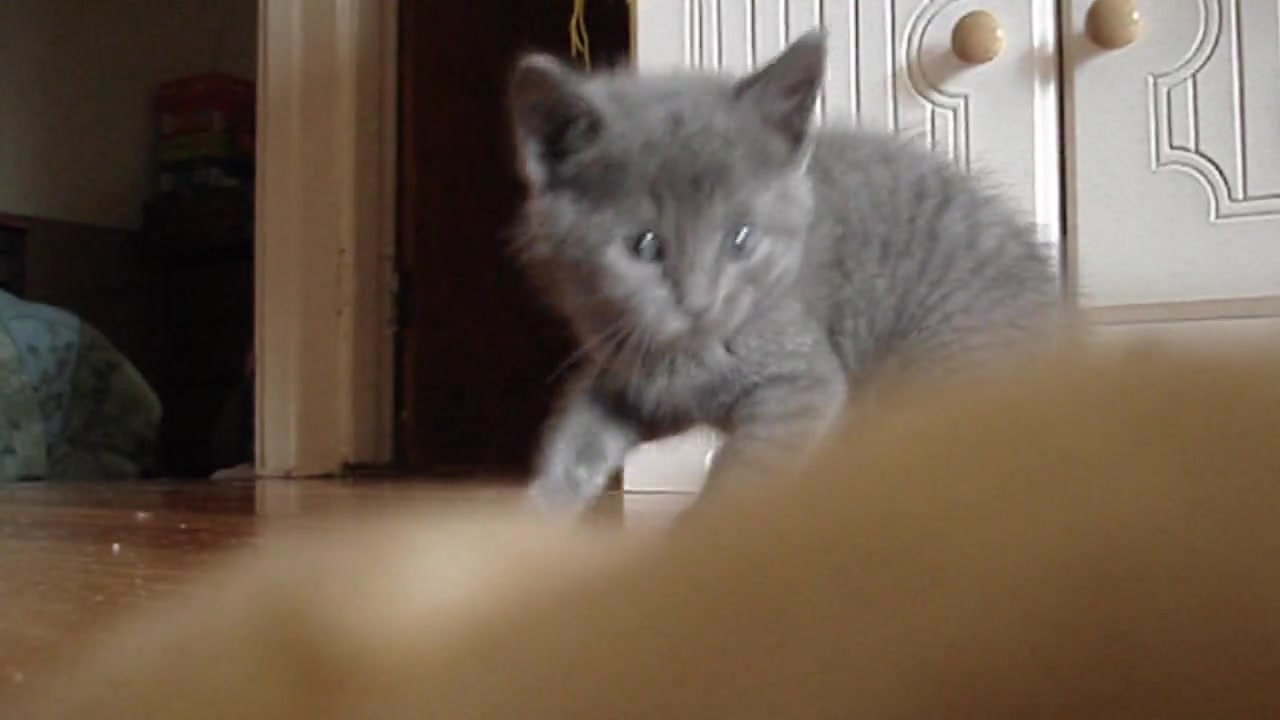cat: (513, 26, 1065, 548)
